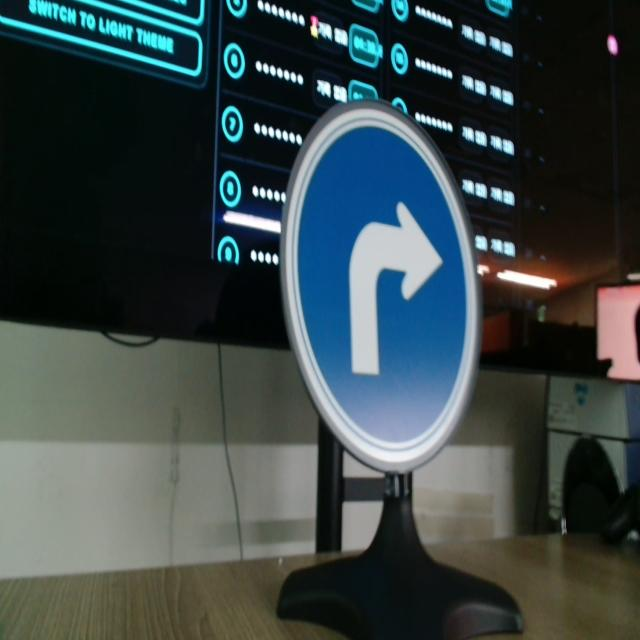right_dierection: (262, 87, 504, 486)
